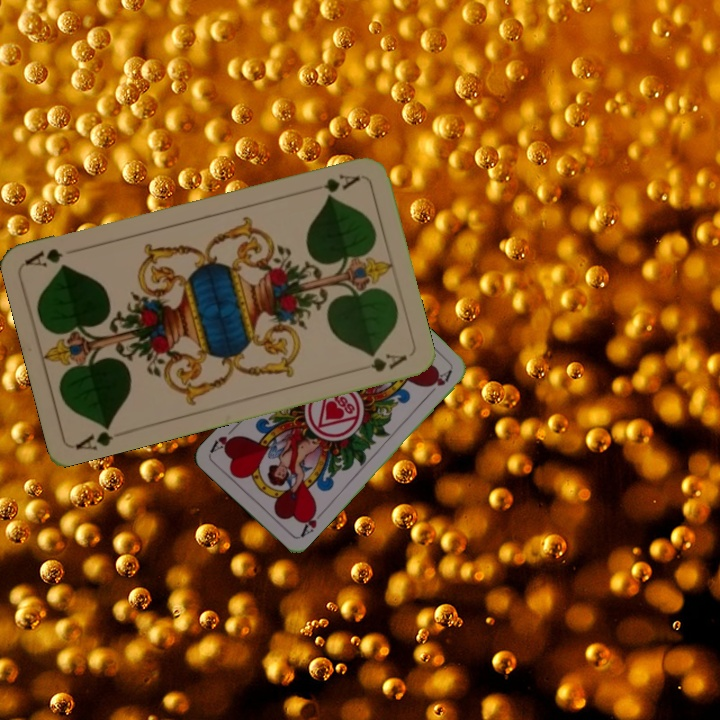GA: (305, 170, 363, 199), (72, 419, 117, 453)
HA: (296, 503, 326, 540)
